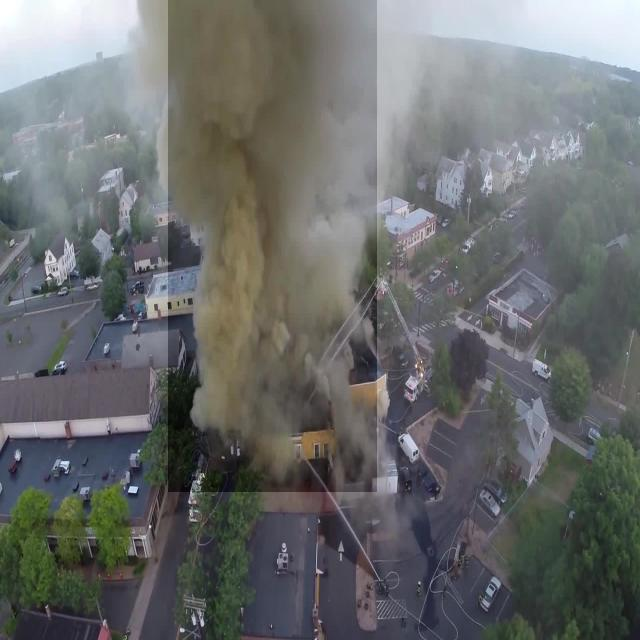Smoke: (168, 0, 377, 492)
